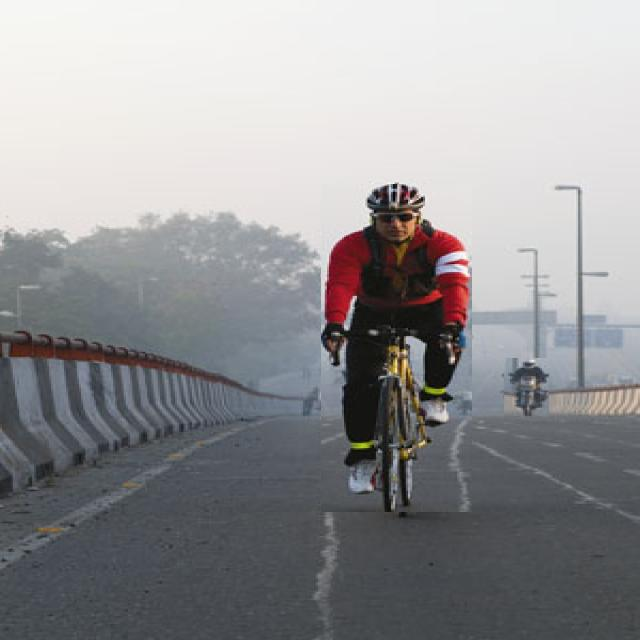bicycle: (321, 184, 471, 512)
motorcycle: (504, 359, 548, 419)
